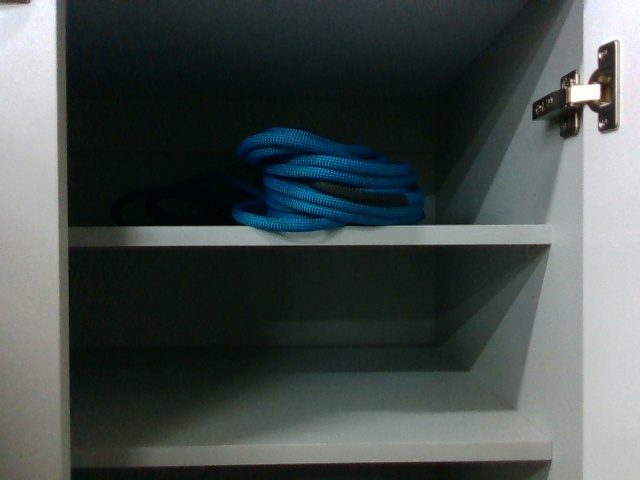rope: (237, 125, 421, 232)
